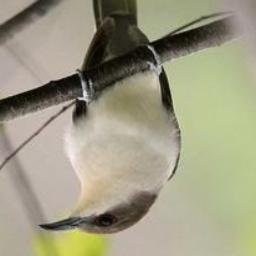Cuckoo: (37, 0, 183, 237)
